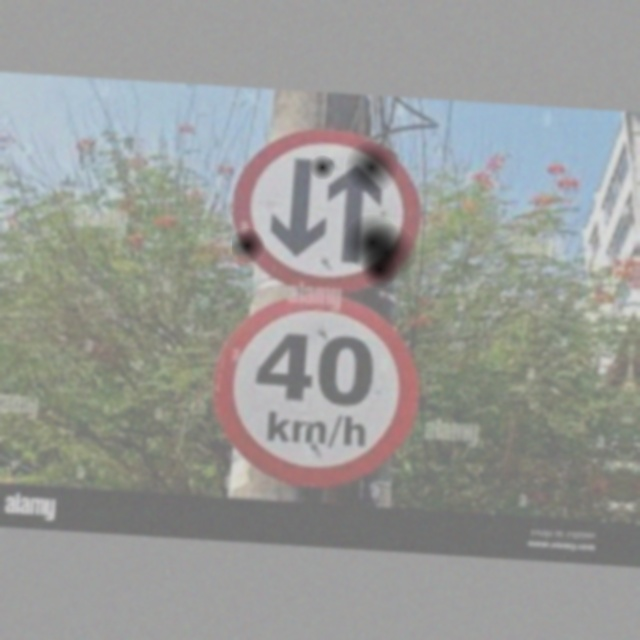Mandatory_Two_Way_Traffic: (232, 128, 423, 292)
